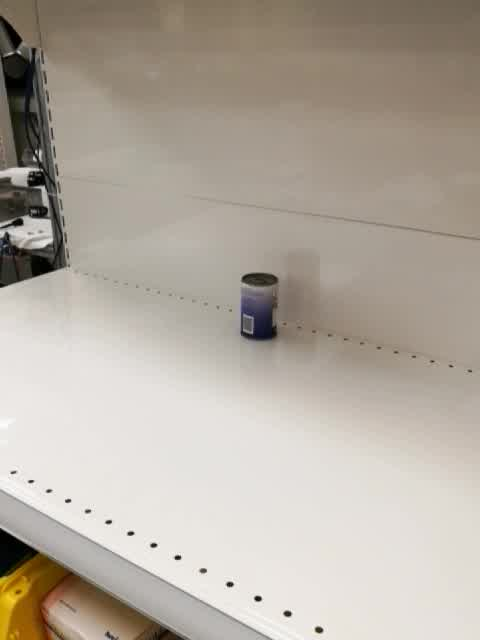sardine: (239, 272, 280, 343)
